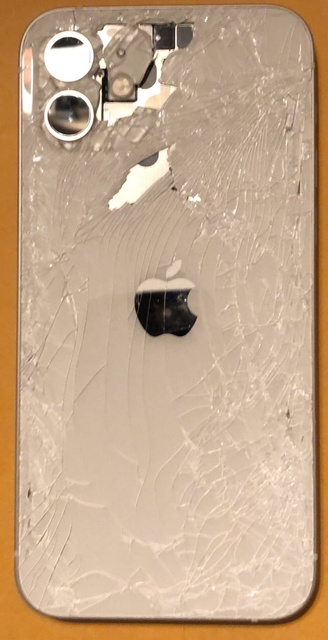crack_phone: (8, 6, 328, 627)
